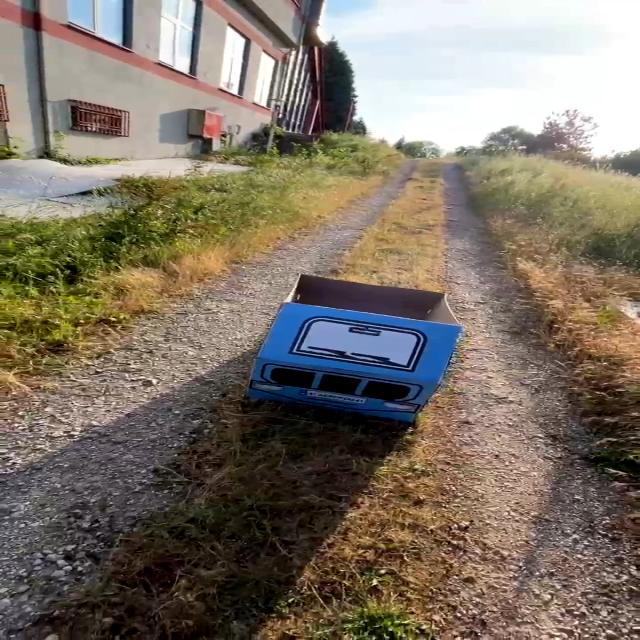blue_car: (175, 246, 507, 455)
